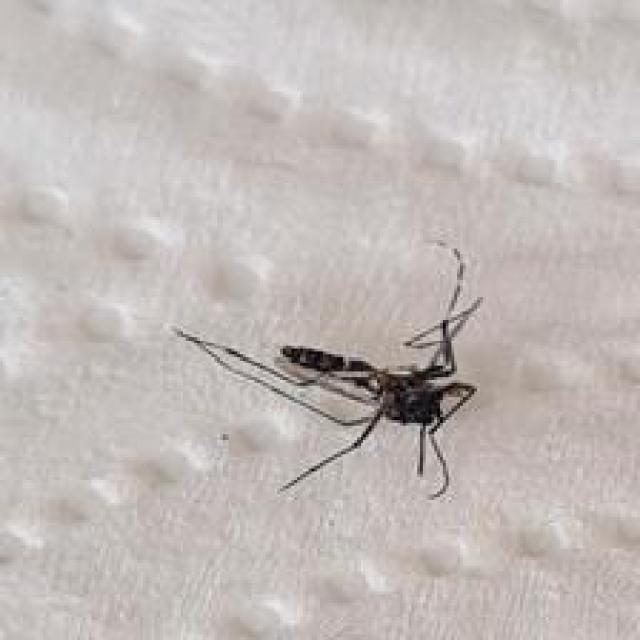Aedes albopictus: (170, 242, 484, 502)
